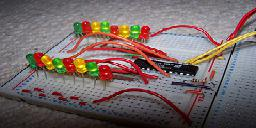LED: (17, 52, 116, 85), (72, 20, 84, 38), (98, 21, 109, 38), (141, 25, 151, 43)
